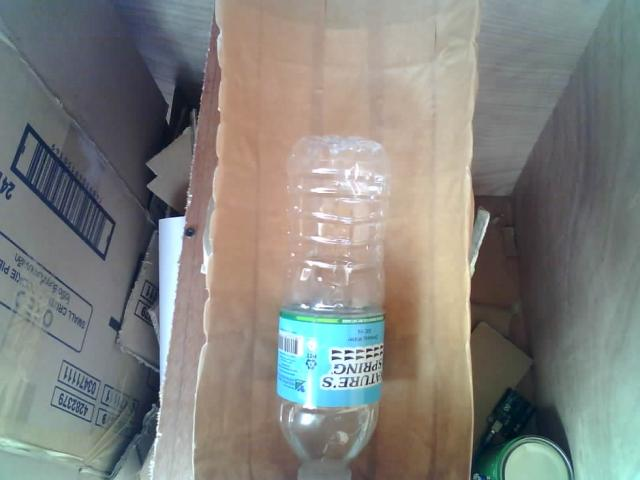small_bottle: (250, 129, 420, 479)
